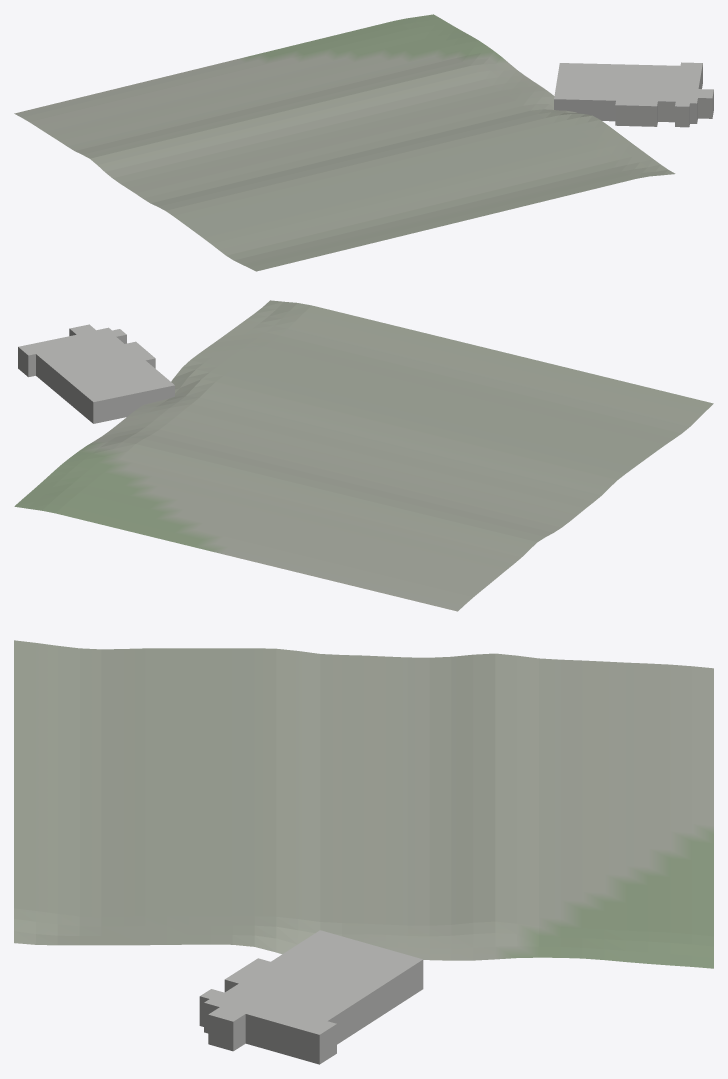
Rendered from tile_-10_-4.glb.
3 views of the same model, one above another, from view 1: azimuth 30°, elevation 25°; view 2: azimuth 150°, elevation 25°; view 3: azimuth 270°, elevation 25° (orthographic). The views are drawn at different scales.
Parts seen in each view (by area): view 1: terrain, buildings; view 2: terrain, buildings; view 3: terrain, buildings.
Part boxes in pixels (x1=…): terrain: x1=14, y1=14, x2=675, y2=271; buildings: x1=554, y1=62, x2=713, y2=127; terrain: x1=14, y1=300, x2=713, y2=611; buildings: x1=18, y1=324, x2=174, y2=423; terrain: x1=14, y1=640, x2=713, y2=968; buildings: x1=199, y1=930, x2=423, y2=1064.
Size of the model in its own units: 337 by 14.14 by 256.
